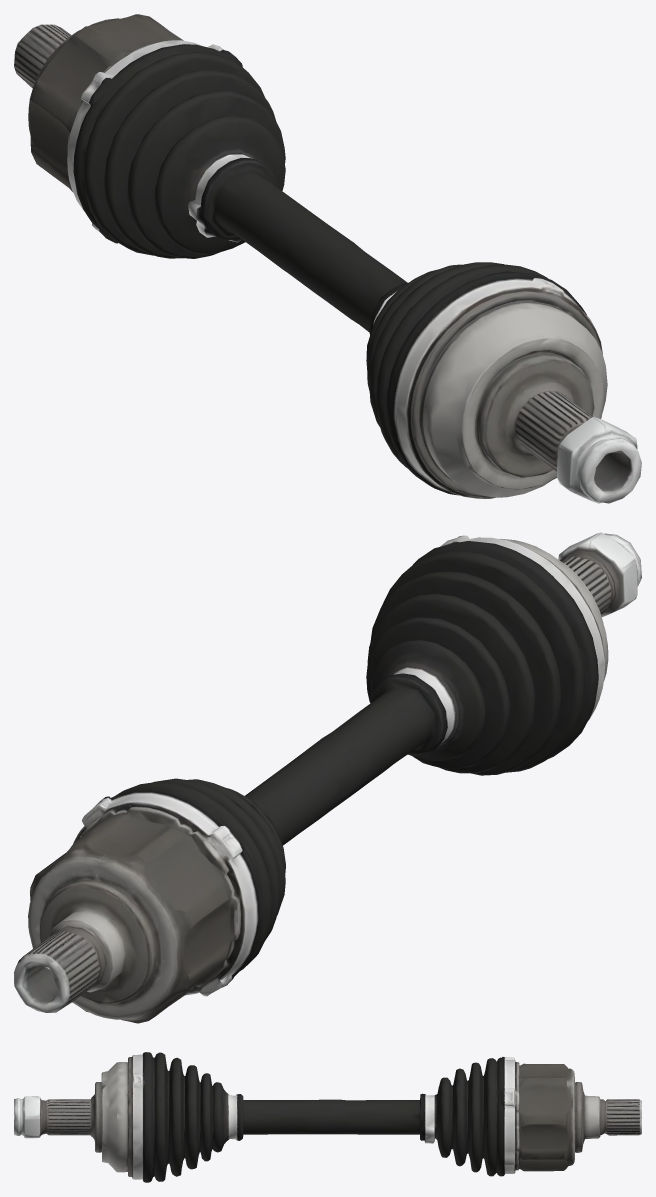
File: front-axle-drive-shaft.glb
3 renders of one model, top to bottom at view 1: azimuth 30°, elevation 25°; view 2: azimuth 150°, elevation 25°; view 3: azimuth 270°, elevation 25°, orthographic. The views are drawn at different scales.
Visible parts, largest first — view 1: tripo_node_d359805d-620d-4562-b9b6-d5921274f801; view 2: tripo_node_d359805d-620d-4562-b9b6-d5921274f801; view 3: tripo_node_d359805d-620d-4562-b9b6-d5921274f801.
Boxes of the visible parts, x1=… form: tripo_node_d359805d-620d-4562-b9b6-d5921274f801: x1=14, y1=14, x2=641, y2=503; tripo_node_d359805d-620d-4562-b9b6-d5921274f801: x1=14, y1=532, x2=641, y2=1023; tripo_node_d359805d-620d-4562-b9b6-d5921274f801: x1=14, y1=1052, x2=641, y2=1182.
Size of the model in its own units: 0.2098 by 0.2085 by 1.
1 material, 1 textured.
